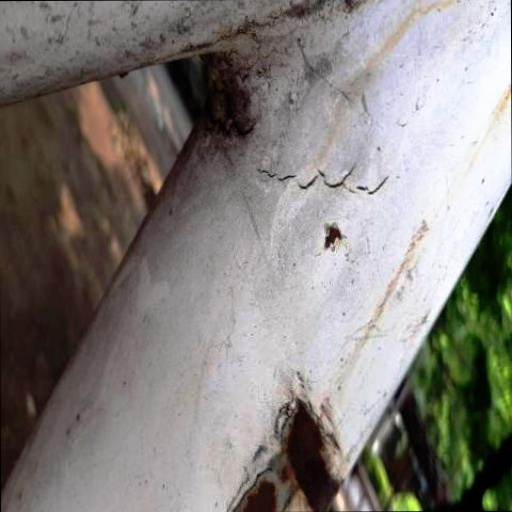crack: (249, 156, 407, 203)
